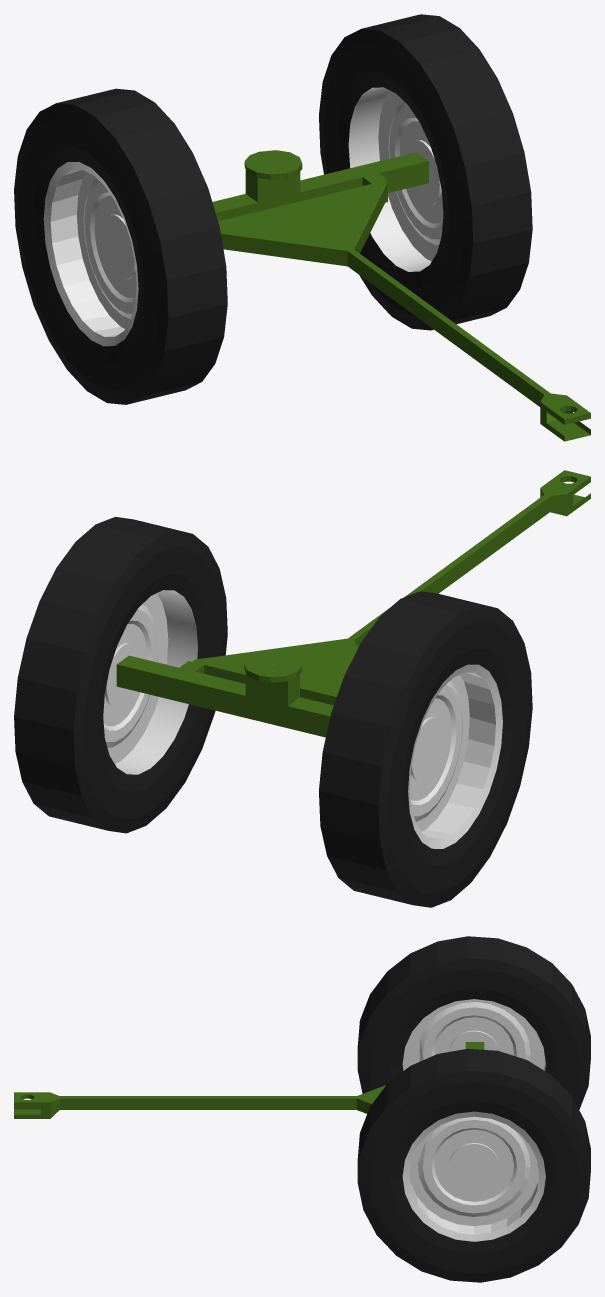
File: Double Tank Front Axle.FBX
The picture shows the model from 3 angles, top to bottom: view 1: azimuth 30°, elevation 25°; view 2: azimuth 150°, elevation 25°; view 3: azimuth 270°, elevation 25°; orthographic projection. The views are drawn at different scales.
Parts seen in each view (by area): view 1: Group_001, Group_007, Group_005, Group_011, Group_009, Group_003; view 2: Group_001, Group_007, Group_009, Group_005, Group_011, Group_003; view 3: Group_007, Group_001, Group_011, Group_005.
Part boxes in pixels (<box>): Group_001: <box>14,88,227,404</box>; Group_007: <box>319,14,532,330</box>; Group_005: <box>218,204,577,441</box>; Group_011: <box>288,174,590,438</box>; Group_009: <box>259,150,428,206</box>; Group_003: <box>212,152,287,221</box>; Group_001: <box>319,591,532,907</box>; Group_007: <box>14,517,227,833</box>; Group_009: <box>116,653,287,722</box>; Group_005: <box>300,473,590,705</box>; Group_011: <box>185,470,577,683</box>; Group_003: <box>259,654,333,737</box>; Group_007: <box>357,1048,590,1282</box>; Group_001: <box>357,936,590,1109</box>; Group_011: <box>14,1097,376,1118</box>; Group_005: <box>14,1085,385,1113</box>.
Bounding box in the file's own units: 69.82 × 50.66 × 125.
